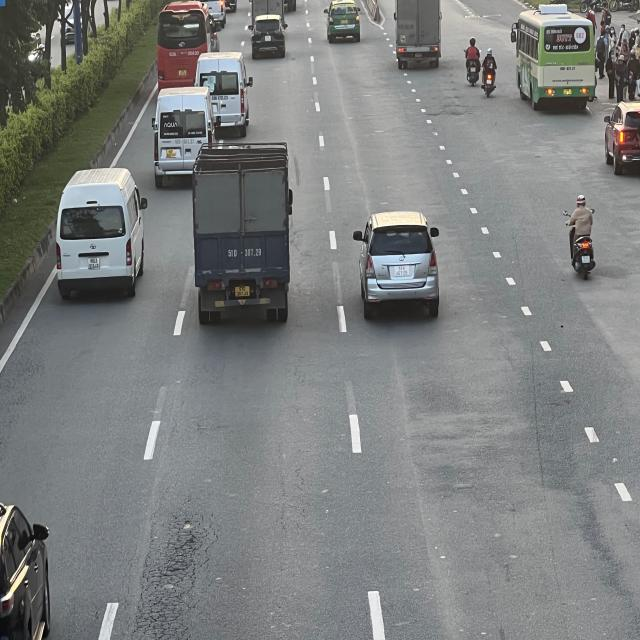car: (356, 214, 444, 322), (0, 501, 52, 639), (607, 103, 640, 171), (251, 14, 289, 58), (326, 0, 364, 42)
coach: (514, 5, 599, 104), (159, 5, 211, 90)
truck: (190, 142, 292, 326), (396, 0, 442, 67)
van: (53, 166, 146, 298), (155, 89, 214, 188), (198, 51, 253, 137)
